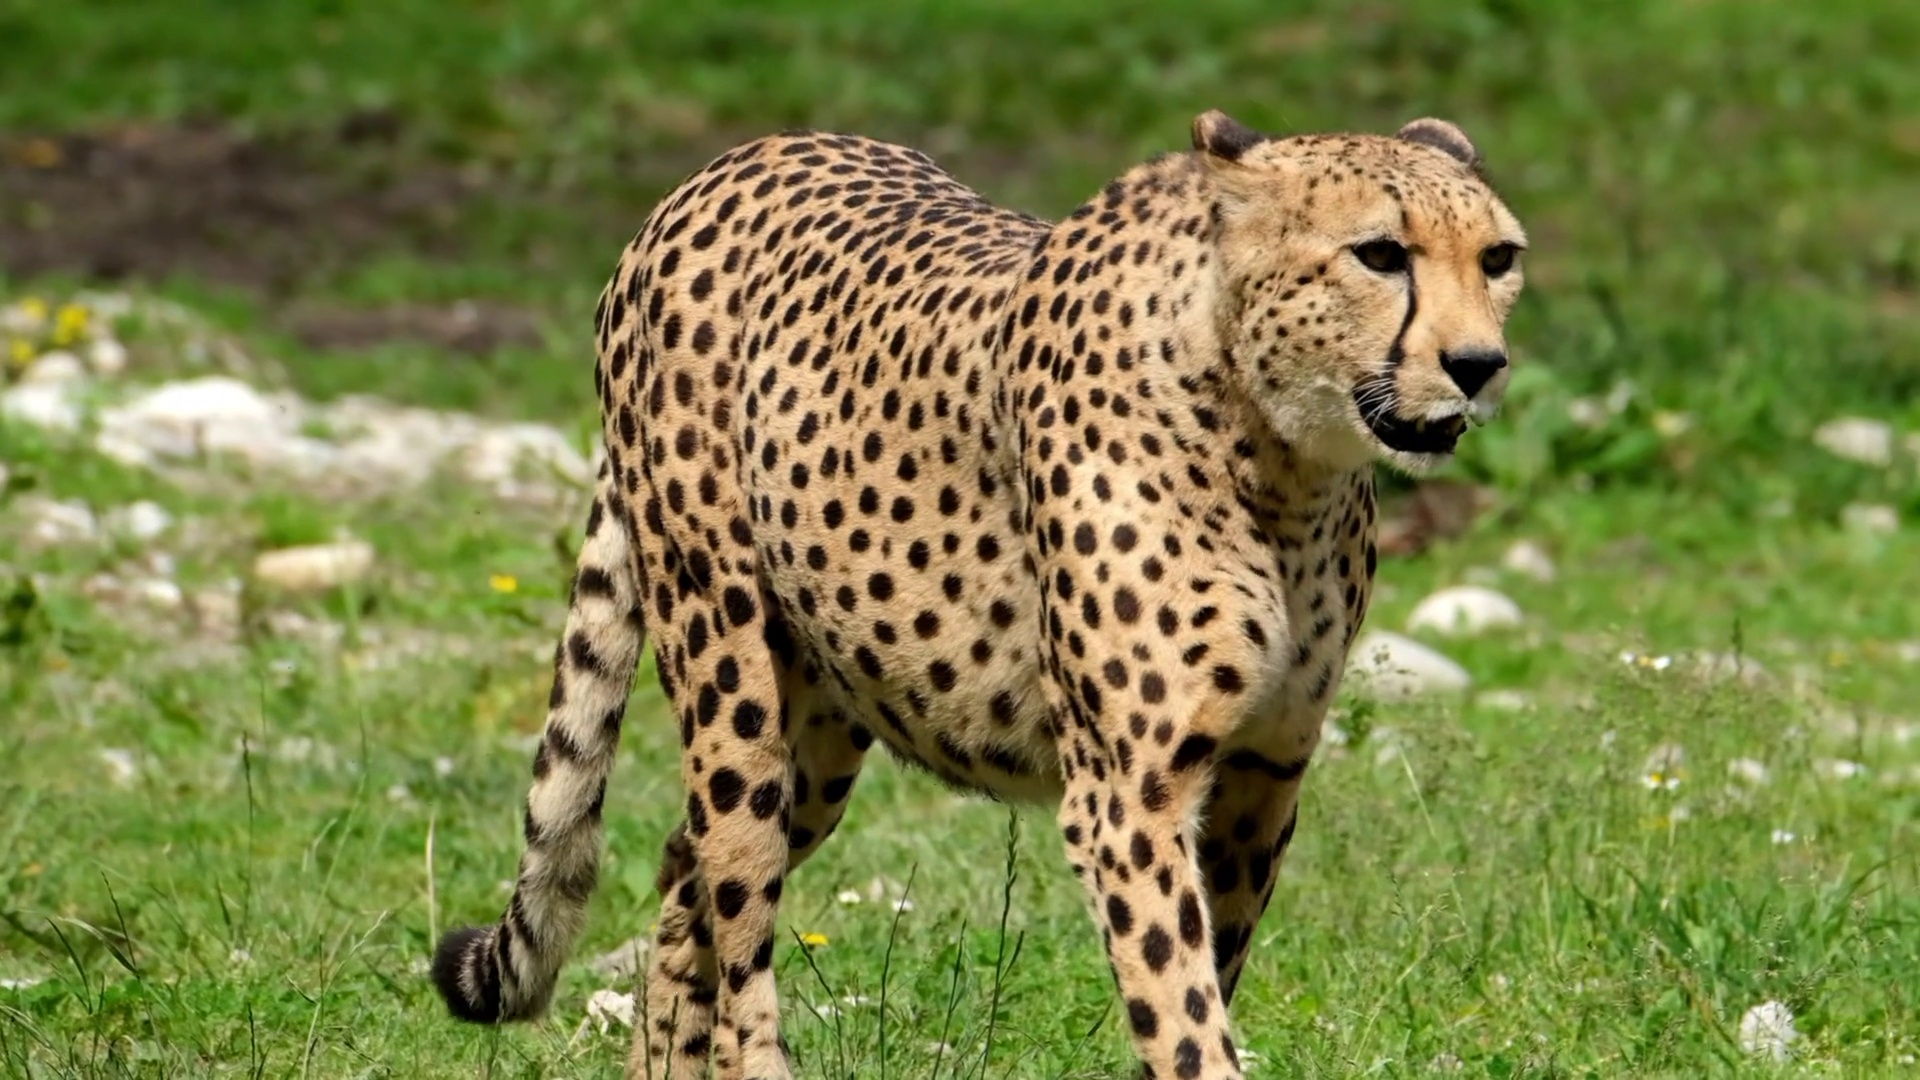Cheetah: (436, 107, 1532, 1080)
